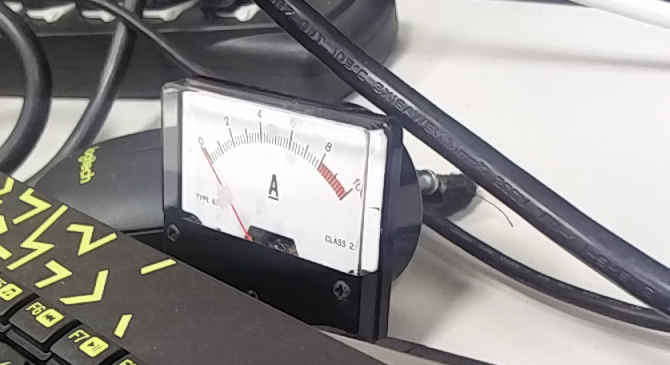Amp_Meter: (173, 74, 386, 280)
